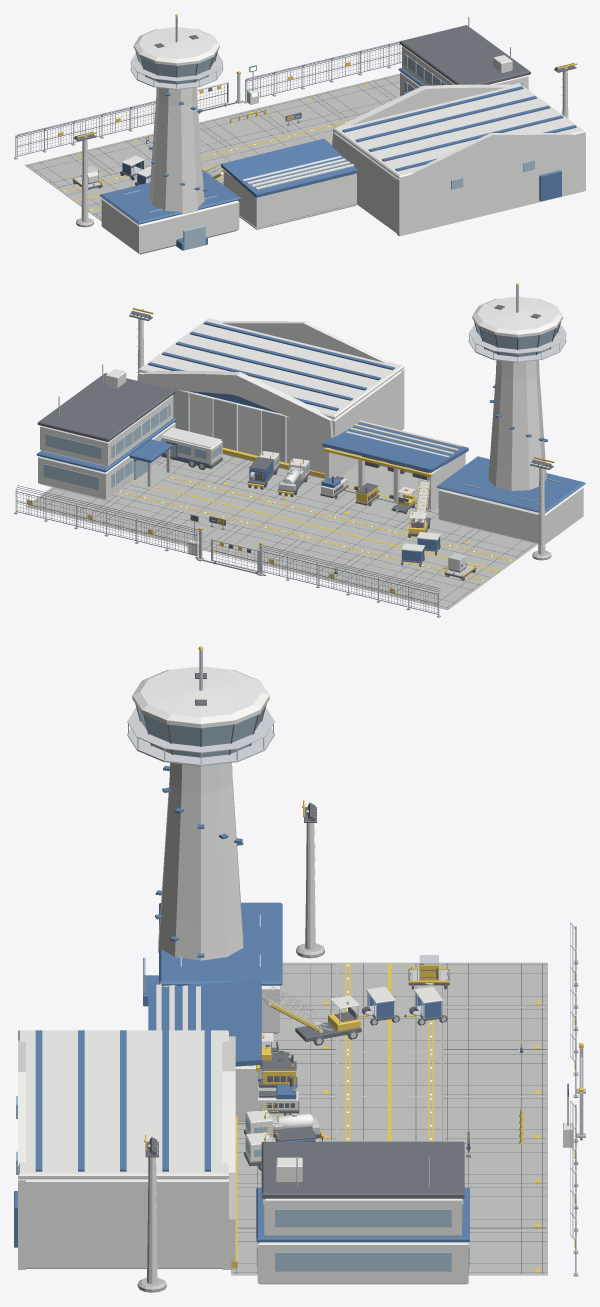
File: airport-terminal-and-ground-operations-airfield-suppor-ba4d912e__26095.glb
The picture shows the model from 3 angles, top to bottom: view 1: azimuth 30°, elevation 25°; view 2: azimuth 150°, elevation 25°; view 3: azimuth 270°, elevation 25°; orthographic projection. The views are drawn at different scales.
Visible parts, largest first — view 1: 022-hangar-frontage/0, 021-control-tower/0, 023-gse-store/1, 024-crew-building/2, 023-gse-store/2, 022-hangar-frontage/3, 021-control-tower/1, 009-apron-paving-tile/0, 012-apron-paving-tile/0, 015-apron-paving-tile/0, 021-control-tower/2, 000-apron-paving-tile/0 (+20 smaller); view 2: 022-hangar-frontage/0, 021-control-tower/0, 024-crew-building/2, 024-crew-building/0, 022-hangar-frontage/3, 021-control-tower/1, 023-gse-store/2, 023-gse-store/1, 022-hangar-frontage/1, 024-crew-building/3, 000-apron-paving-tile/0, 015-apron-paving-tile/0 (+34 smaller); view 3: 022-hangar-frontage/0, 021-control-tower/0, 024-crew-building/2, 024-crew-building/0, 024-crew-building/3, 021-control-tower/1, 023-gse-store/2, 022-hangar-frontage/3, 006-apron-paving-tile/0, 000-apron-paving-tile/0, 003-apron-paving-tile/0, 009-apron-paving-tile/0 (+20 smaller).
Boxes of the visible parts, x1,y1,x2,y2 form: 022-hangar-frontage/0: (332,83,585,236); 021-control-tower/0: (101,27,239,254); 023-gse-store/1: (223,156,356,227); 024-crew-building/2: (399,25,530,84); 023-gse-store/2: (221,138,358,197); 022-hangar-frontage/3: (342,86,576,201); 021-control-tower/1: (99,93,241,250); 009-apron-paving-tile/0: (199,109,286,147); 012-apron-paving-tile/0: (255,95,344,133); 015-apron-paving-tile/0: (312,81,393,119); 021-control-tower/2: (124,53,216,250); 000-apron-paving-tile/0: (25,151,114,189); 022-hangar-frontage/0: (138,318,404,478); 021-control-tower/0: (438,296,583,543); 024-crew-building/2: (37,373,175,441); 024-crew-building/0: (38,369,175,499); 022-hangar-frontage/3: (148,321,394,413); 021-control-tower/1: (436,385,585,513); 023-gse-store/2: (322,423,468,472); 023-gse-store/1: (325,420,465,510); 022-hangar-frontage/1: (173,390,285,462); 024-crew-building/3: (43,403,170,490); 000-apron-paving-tile/0: (389,569,482,609); 015-apron-paving-tile/0: (86,496,180,536); 022-hangar-frontage/0: (18,1030,235,1269); 021-control-tower/0: (132,666,279,1033); 024-crew-building/2: (261,1141,464,1198); 024-crew-building/0: (257,1157,468,1284); 024-crew-building/3: (256,1198,469,1271); 021-control-tower/1: (143,765,282,1006); 023-gse-store/2: (148,979,261,1066); 022-hangar-frontage/3: (14,1030,210,1247); 006-apron-paving-tile/0: (442,1052,547,1096); 000-apron-paving-tile/0: (442,962,547,1007); 003-apron-paving-tile/0: (442,1007,547,1051); 009-apron-paving-tile/0: (442,1096,547,1140).
Size of the model in its own units: 62.7 by 29.32 by 43.38.
